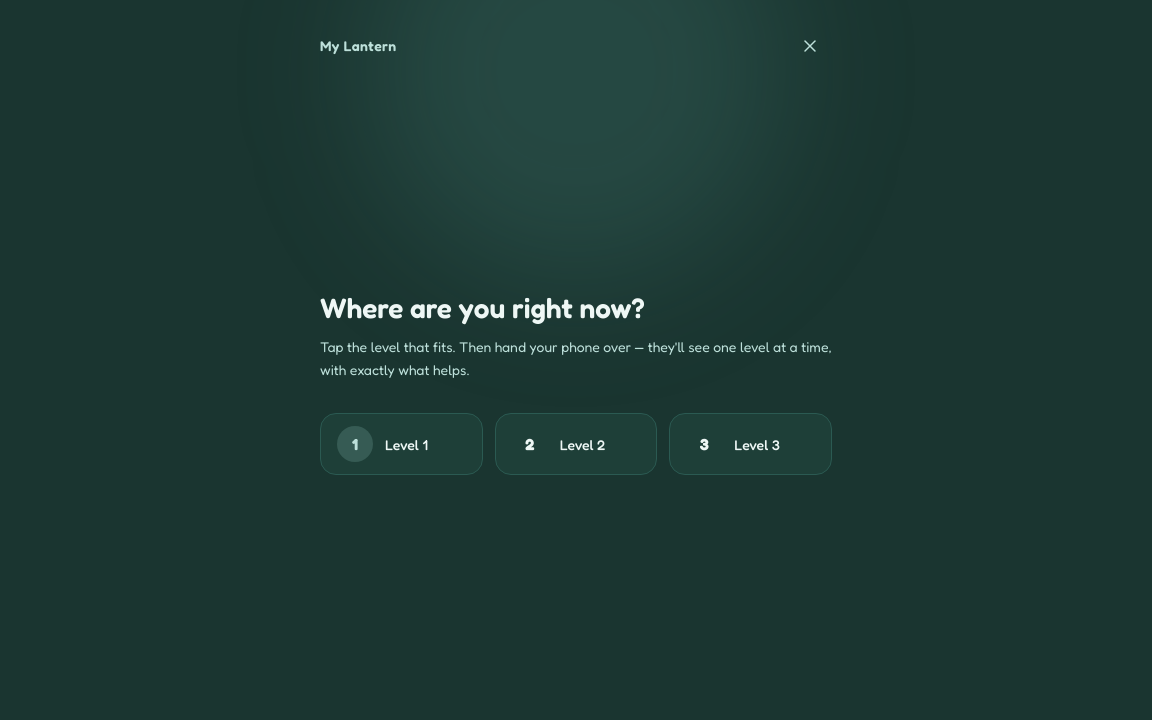
PresentMode › shows a crisis callout on the top level
Click the button "3 Level 3".
click(751, 444)  # box x1=669 y1=413 x2=832 y2=475
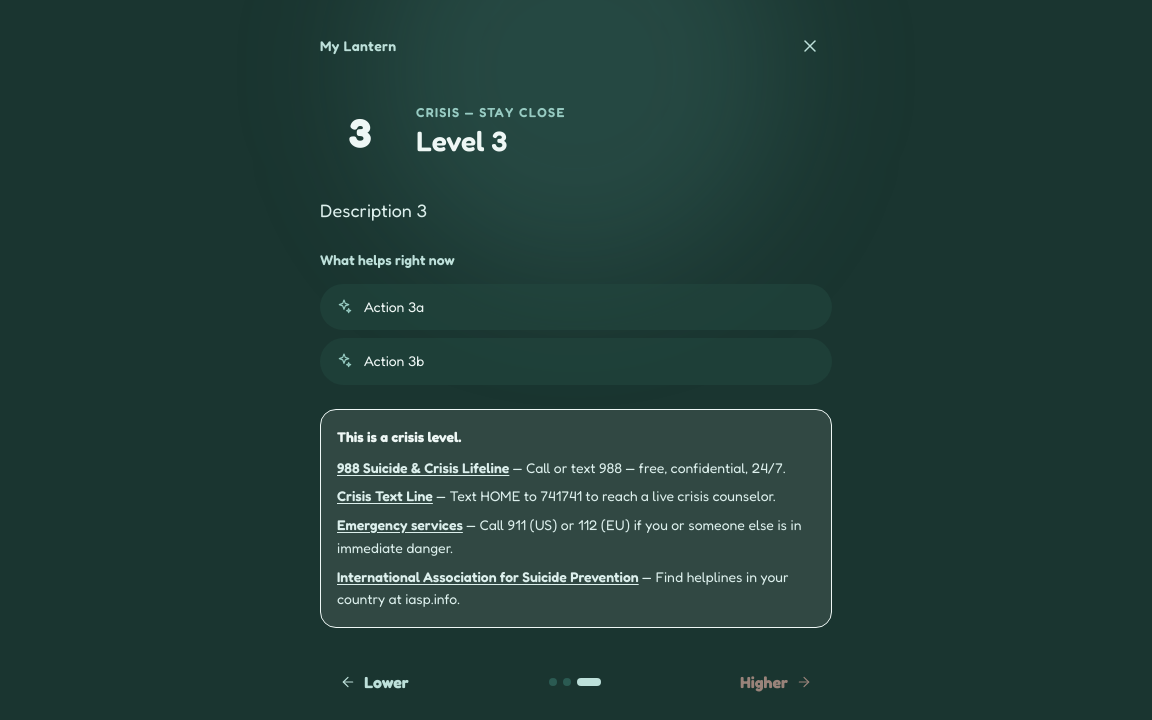
Now the text "This is a crisis level." is shown, box x1=337 y1=428 x2=461 y2=445
Now the link "988 Suicide & Crisis Lifeline" is shown, box x1=337 y1=458 x2=509 y2=476
